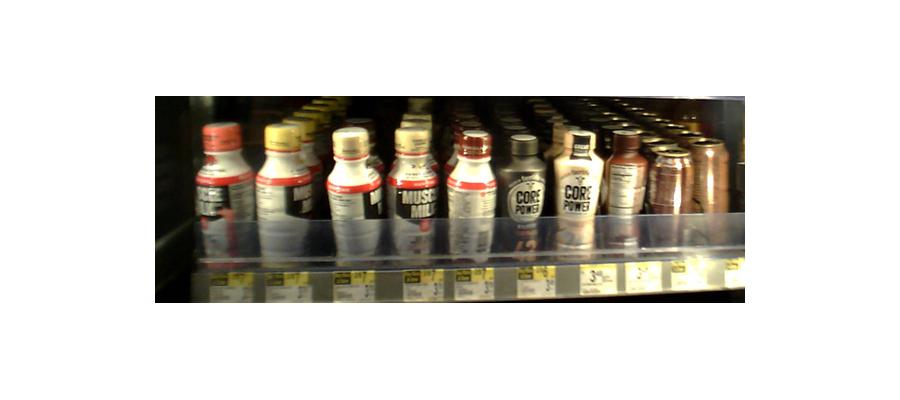bottle: (259, 122, 322, 270), (197, 121, 254, 275), (327, 129, 386, 269), (388, 123, 442, 262), (550, 127, 606, 256), (446, 127, 497, 264), (498, 131, 547, 259), (606, 125, 648, 258), (649, 137, 692, 255), (686, 130, 731, 236)
